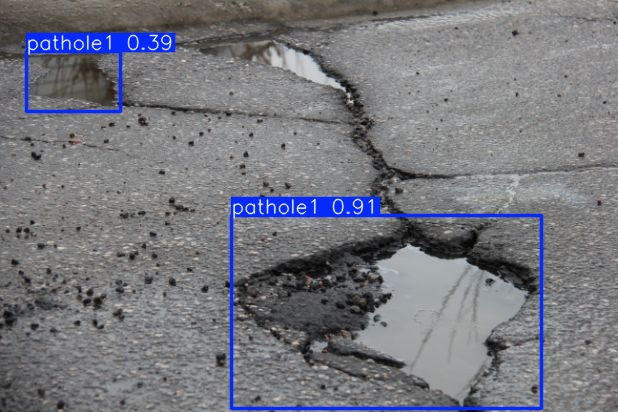pothole: (224, 226, 540, 411)
